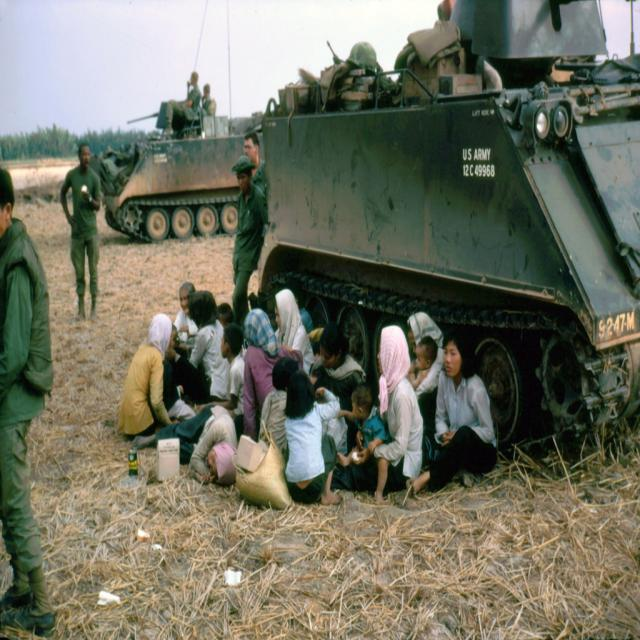tank: (255, 0, 639, 457), (89, 0, 263, 243)
